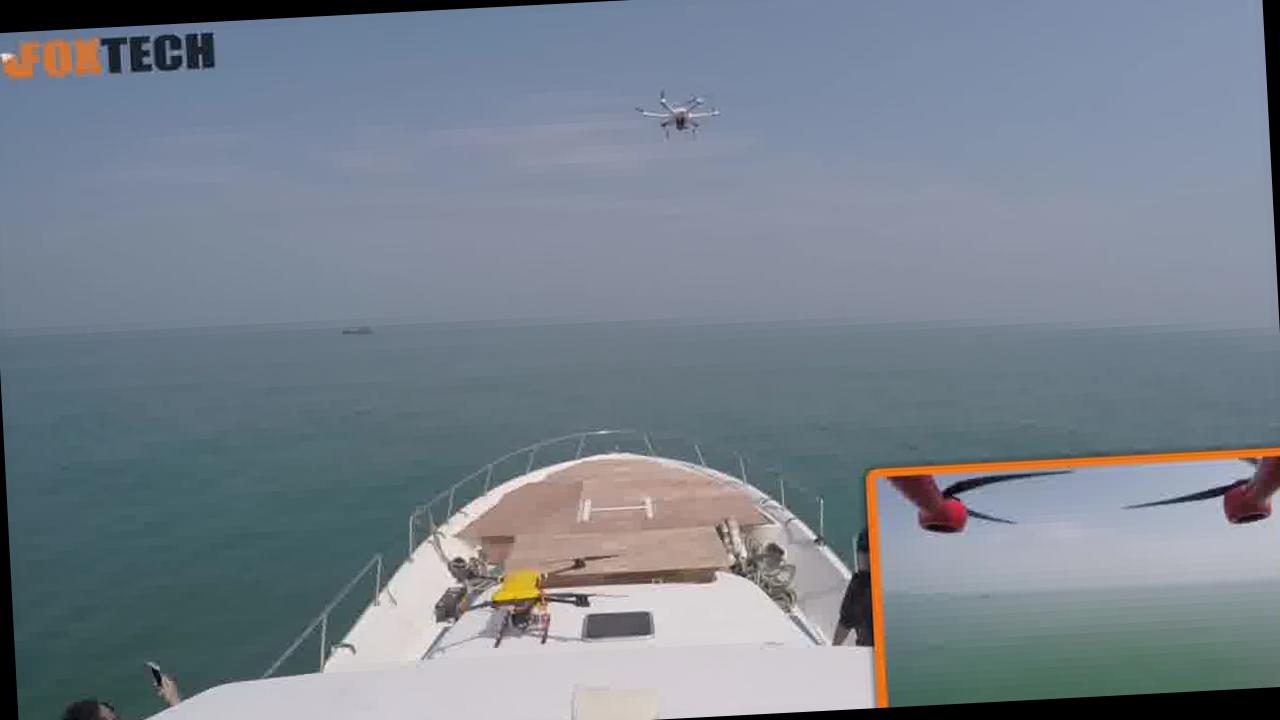drone: (637, 88, 722, 142)
